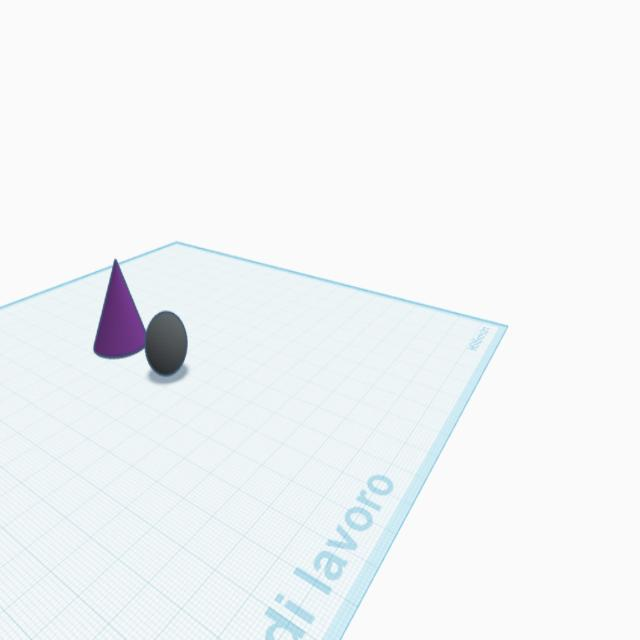cone: (89, 256, 149, 362)
sphere: (143, 306, 190, 378)
